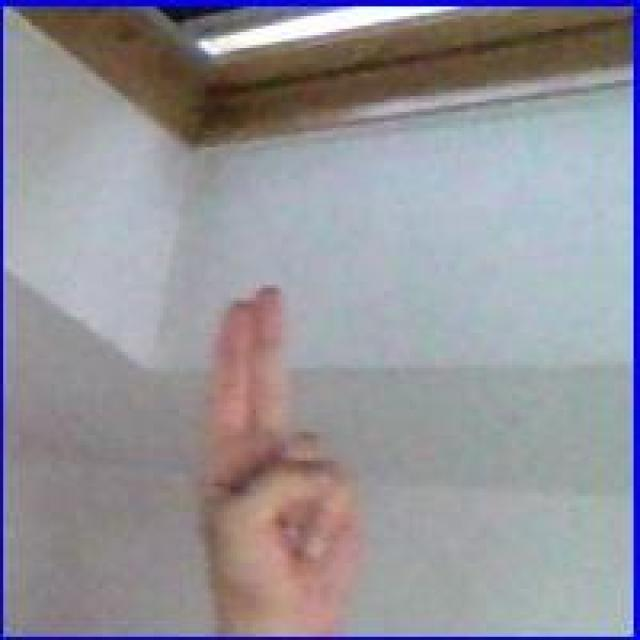U: (176, 270, 371, 620)
